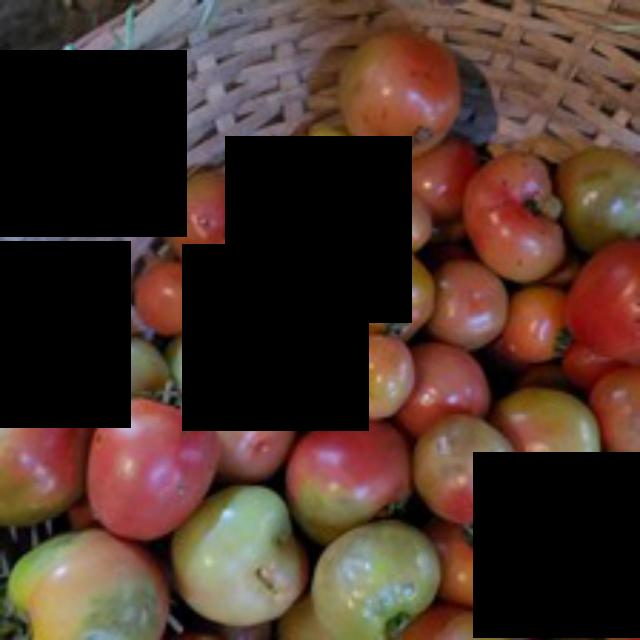tomato: (76, 378, 236, 554)
